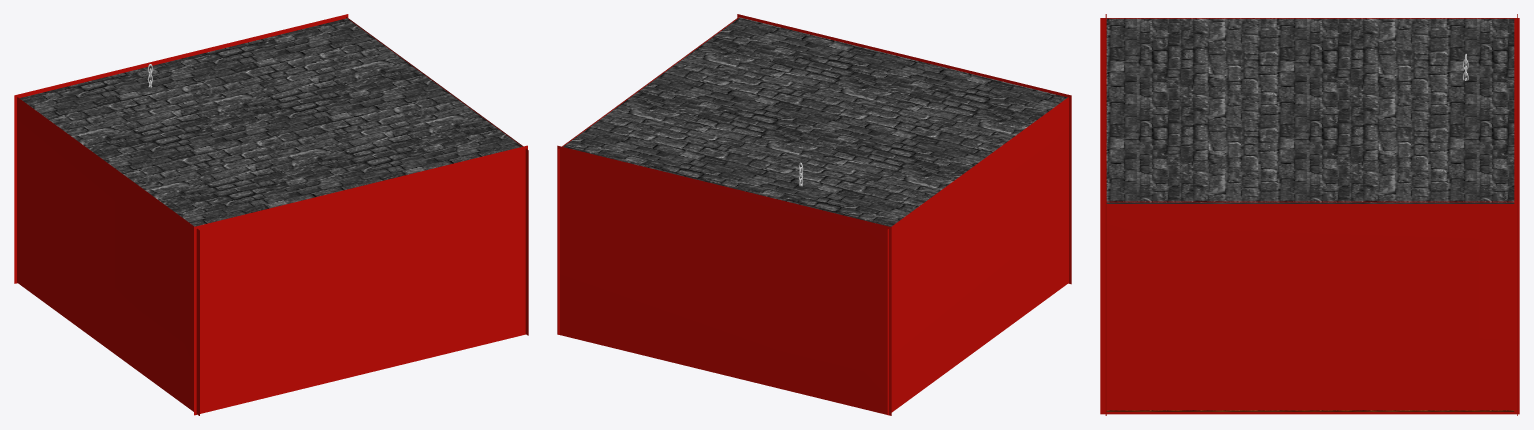
Rendered from Court Room.fbx.
3 renders of one model, left to right at view 1: azimuth 30°, elevation 25°; view 2: azimuth 150°, elevation 25°; view 3: azimuth 270°, elevation 25°, orthographic. The views are drawn at different scales.
Visible parts, largest first — view 1: North Wall.002, Roof, North Wall.003, North Wall.001, North Wall; view 2: North Wall.001, Roof, North Wall.003, North Wall.002, North Wall; view 3: North Wall, Roof, North Wall.003, Floor, North Wall.002, North Wall.001.
Part boxes in pixels (<box>): North Wall.002: <box>194,145,527,415</box>; Roof: <box>19,18,523,226</box>; North Wall.003: <box>17,97,199,415</box>; North Wall.001: <box>14,14,348,283</box>; North Wall: <box>346,17,528,335</box>; North Wall.001: <box>557,145,891,415</box>; Roof: <box>563,17,1067,226</box>; North Wall.003: <box>887,97,1068,414</box>; North Wall.002: <box>737,14,1071,284</box>; North Wall: <box>558,17,739,334</box>; North Wall: <box>1100,201,1519,414</box>; Roof: <box>1106,18,1514,203</box>; North Wall.003: <box>1100,18,1519,201</box>; Floor: <box>1106,410,1514,411</box>; North Wall.002: <box>1105,14,1106,415</box>; North Wall.001: <box>1517,14,1517,415</box>.
Size of the model in its own units: 1586 by 948 by 1508.
